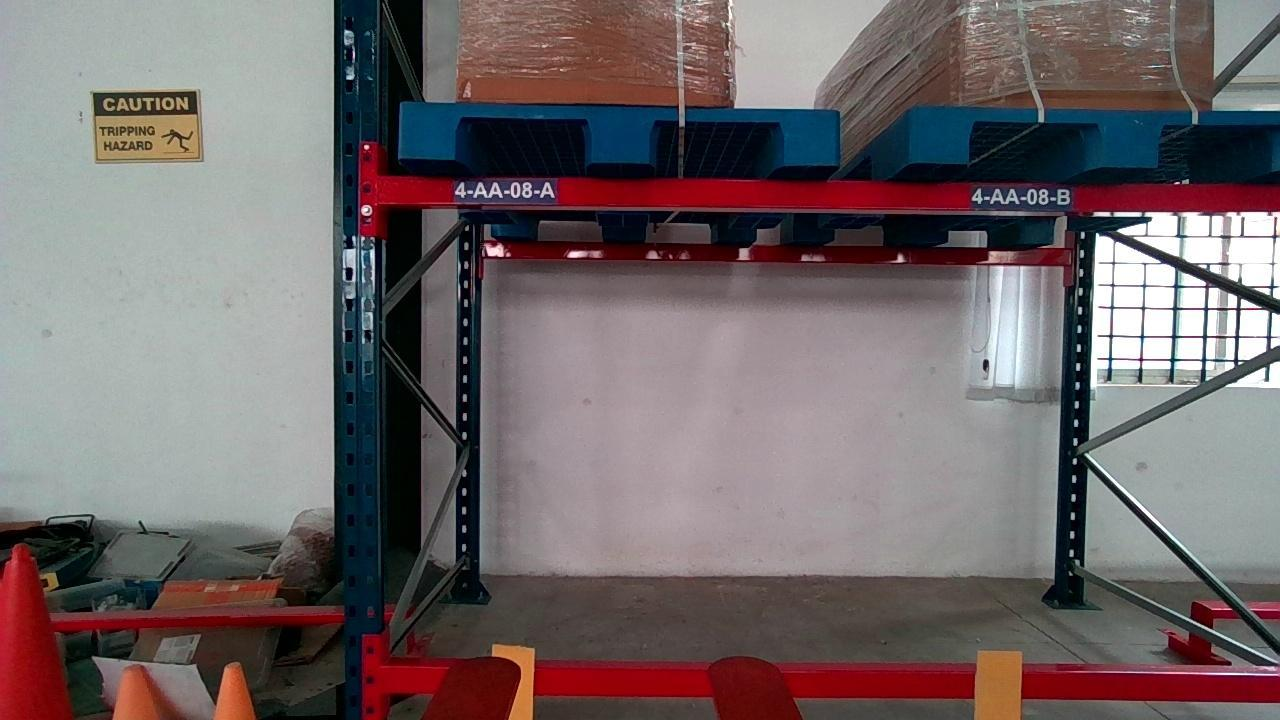h_rack: (383, 175, 1279, 214), (390, 669, 1277, 700)
orange_strip: (969, 652, 1022, 719)
small_pallet: (398, 100, 840, 161), (912, 110, 1275, 173)
